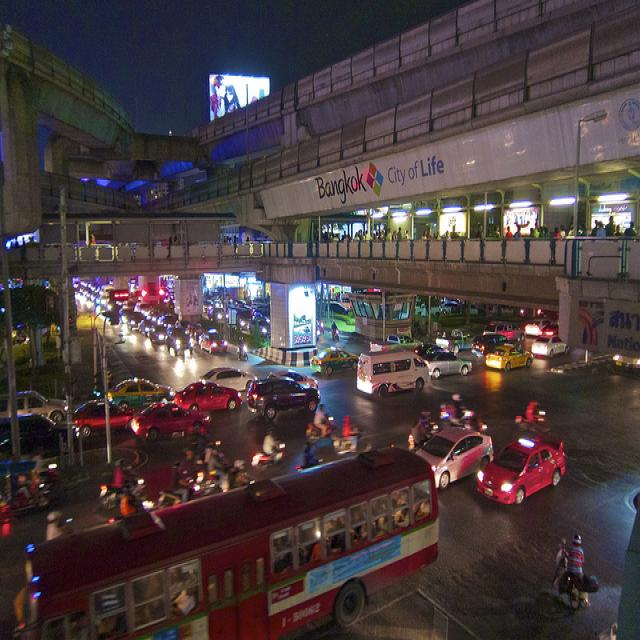motor: (553, 538, 590, 610), (158, 470, 202, 510), (195, 458, 239, 495), (98, 477, 148, 509), (12, 474, 50, 511), (335, 428, 373, 458), (107, 501, 154, 523), (407, 422, 439, 452), (516, 411, 548, 434), (307, 416, 334, 443), (251, 450, 287, 467), (318, 323, 342, 345), (185, 443, 203, 466), (236, 346, 249, 361)
